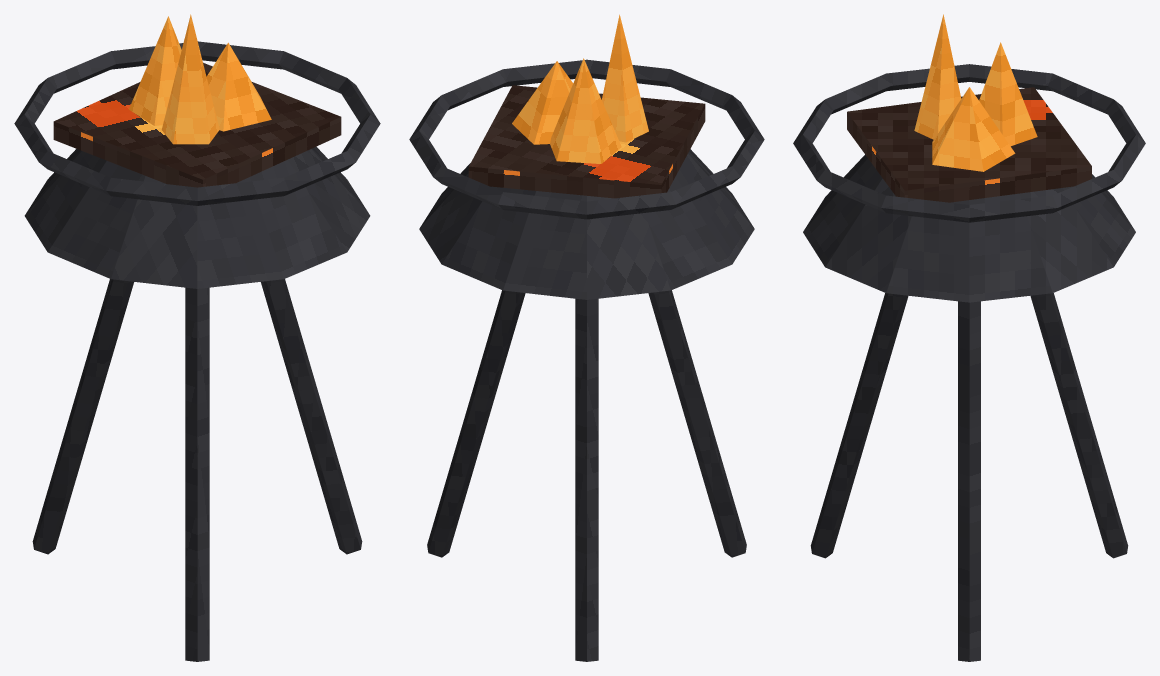
File: fire_bowl.glb
The picture shows the model from 3 angles, left to right: view 1: azimuth 30°, elevation 25°; view 2: azimuth 150°, elevation 25°; view 3: azimuth 270°, elevation 25°; orthographic projection. The views are drawn at different scales.
Visible parts, largest first — view 1: body, lamp_on; view 2: body, lamp_on; view 3: body, lamp_on.
Boxes of the visible parts, left/top/right/bottom form: body: left=14, top=41, right=380, bottom=661; lamp_on: left=129, top=14, right=271, bottom=144; body: left=409, top=59, right=764, bottom=661; lamp_on: left=512, top=14, right=648, bottom=163; body: left=793, top=64, right=1145, bottom=661; lamp_on: left=914, top=14, right=1037, bottom=171.
Size of the model in its own units: 0.734 by 1.28 by 0.72.
Materials: 3 (3 with a texture image).
